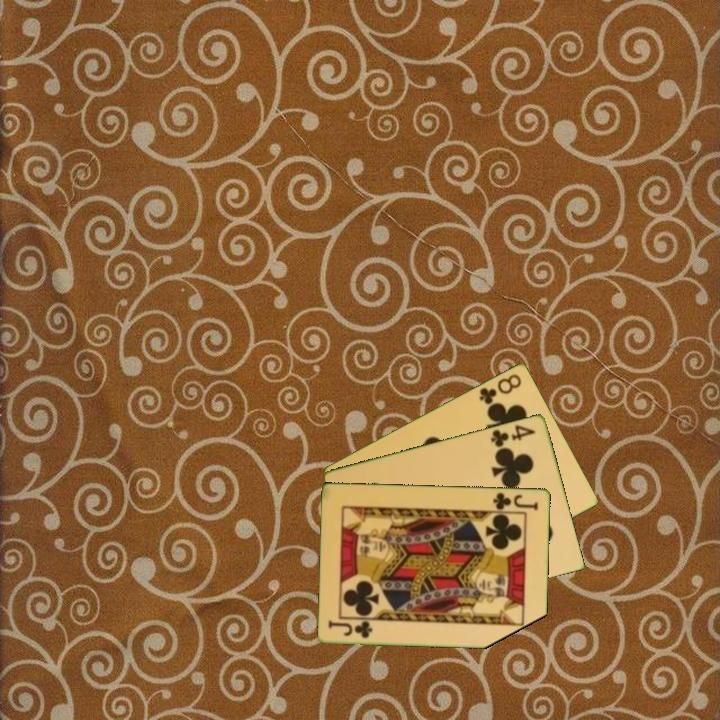4c: (487, 421, 539, 450)
8c: (475, 370, 525, 407)
Jc: (489, 489, 541, 513), (325, 617, 375, 641)
